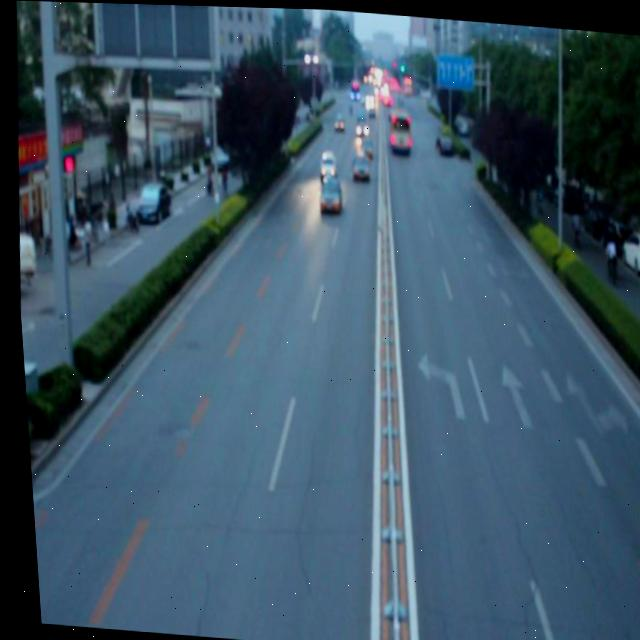car: (315, 174, 341, 212)
